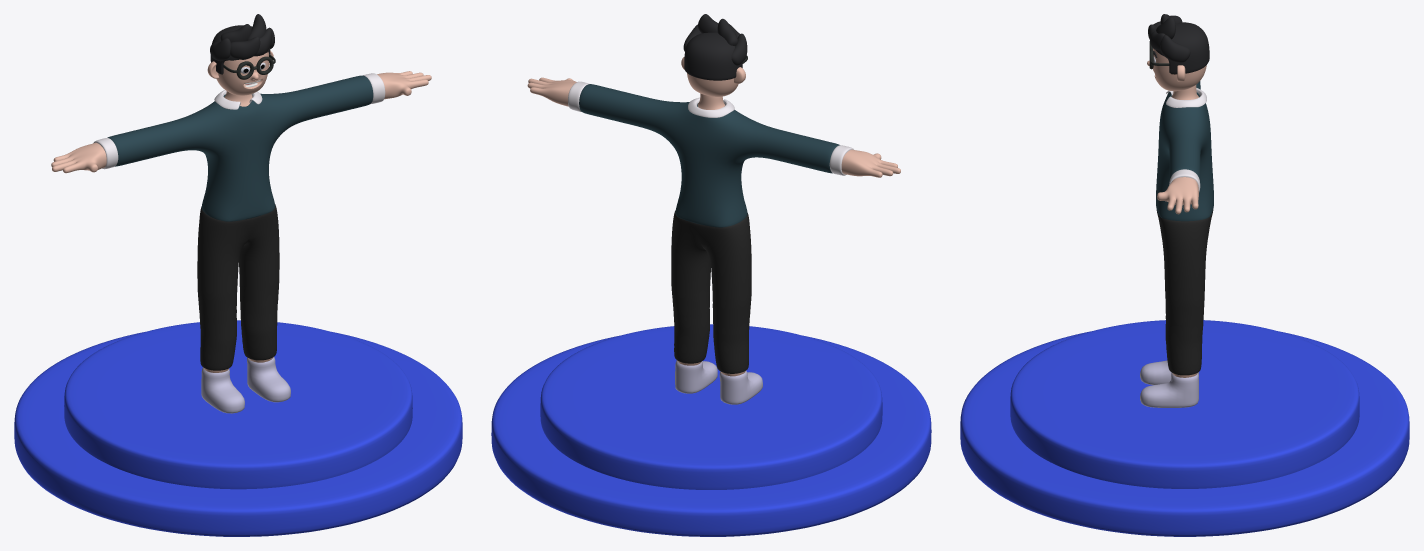
Rendered from character.glb.
3 views of the same model, side by side, from view 1: azimuth 30°, elevation 25°; view 2: azimuth 150°, elevation 25°; view 3: azimuth 270°, elevation 25° (orthographic). The views are drawn at different scales.
Visible parts, largest first — view 1: Platform_Cylinder.008, Jumper_Vert.006, Trousers_Vert.007, Body_Cube.013, shoes_Cube.015, Hair_spikes_Cube.018; view 2: Platform_Cylinder.008, Jumper_Vert.006, Trousers_Vert.007, Body_Cube.013, shoes_Cube.015, Hair_Cube.014, Hair_spikes_Cube.018; view 3: Platform_Cylinder.008, Trousers_Vert.007, Jumper_Vert.006, Body_Cube.013, shoes_Cube.015, Hair_Cube.014, Hair_spikes_Cube.018.
Part boxes in pixels (x1,y1,x2,y2): Platform_Cylinder.008: [14, 320, 462, 536]; Jumper_Vert.006: [93, 73, 385, 221]; Trousers_Vert.007: [197, 204, 279, 370]; Body_Cube.013: [51, 52, 431, 372]; shoes_Cube.015: [201, 357, 290, 413]; Hair_spikes_Cube.018: [210, 14, 274, 61]; Platform_Cylinder.008: [491, 324, 931, 536]; Jumper_Vert.006: [568, 81, 853, 227]; Trousers_Vert.007: [671, 210, 751, 373]; Body_Cube.013: [527, 73, 900, 376]; shoes_Cube.015: [675, 360, 762, 404]; Hair_Cube.014: [684, 32, 742, 80]; Hair_spikes_Cube.018: [683, 14, 747, 65]; Platform_Cylinder.008: [960, 320, 1409, 536]; Trousers_Vert.007: [1156, 209, 1213, 375]; Jumper_Vert.006: [1156, 81, 1213, 221]; Body_Cube.013: [1147, 48, 1206, 377]; shoes_Cube.015: [1140, 360, 1198, 407]; Hair_Cube.014: [1156, 22, 1209, 74]; Hair_spikes_Cube.018: [1148, 14, 1190, 62].
Size of the model in its own units: 1.97 by 2.1 by 1.97.
